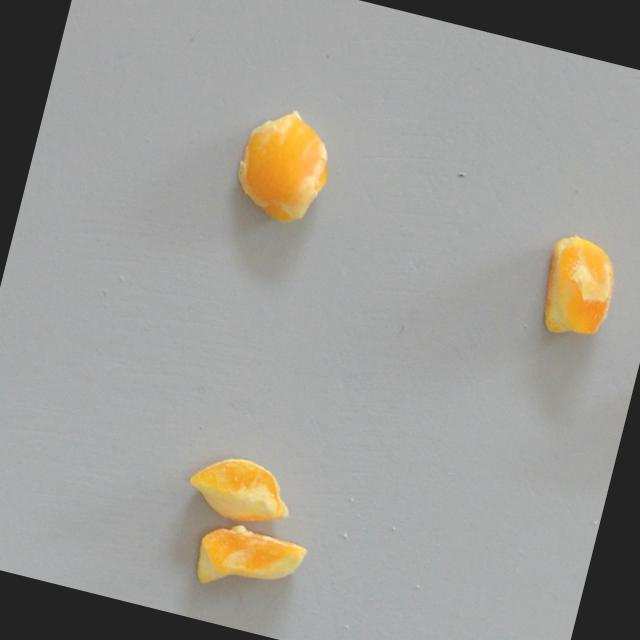pelicula: (222, 96, 341, 233), (172, 431, 311, 543), (188, 513, 321, 613), (528, 227, 629, 347)
